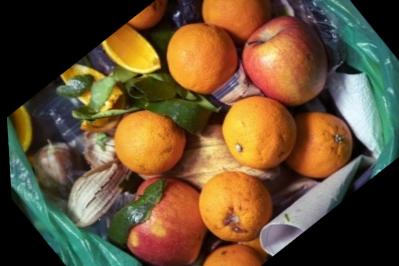organic: (172, 141, 287, 240), (152, 0, 261, 104), (242, 2, 327, 105), (109, 177, 206, 265), (115, 110, 206, 176), (222, 96, 295, 168), (67, 159, 141, 226), (286, 109, 353, 178), (202, 0, 293, 45), (101, 24, 160, 73), (195, 232, 266, 265), (128, 0, 167, 30)
